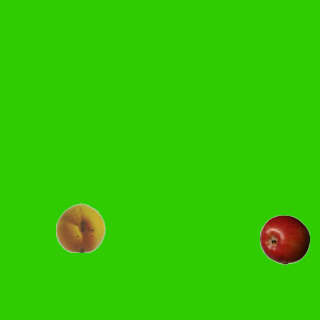Apple Braeburn: (259, 214, 309, 264)
Peach 2: (55, 202, 105, 252)
